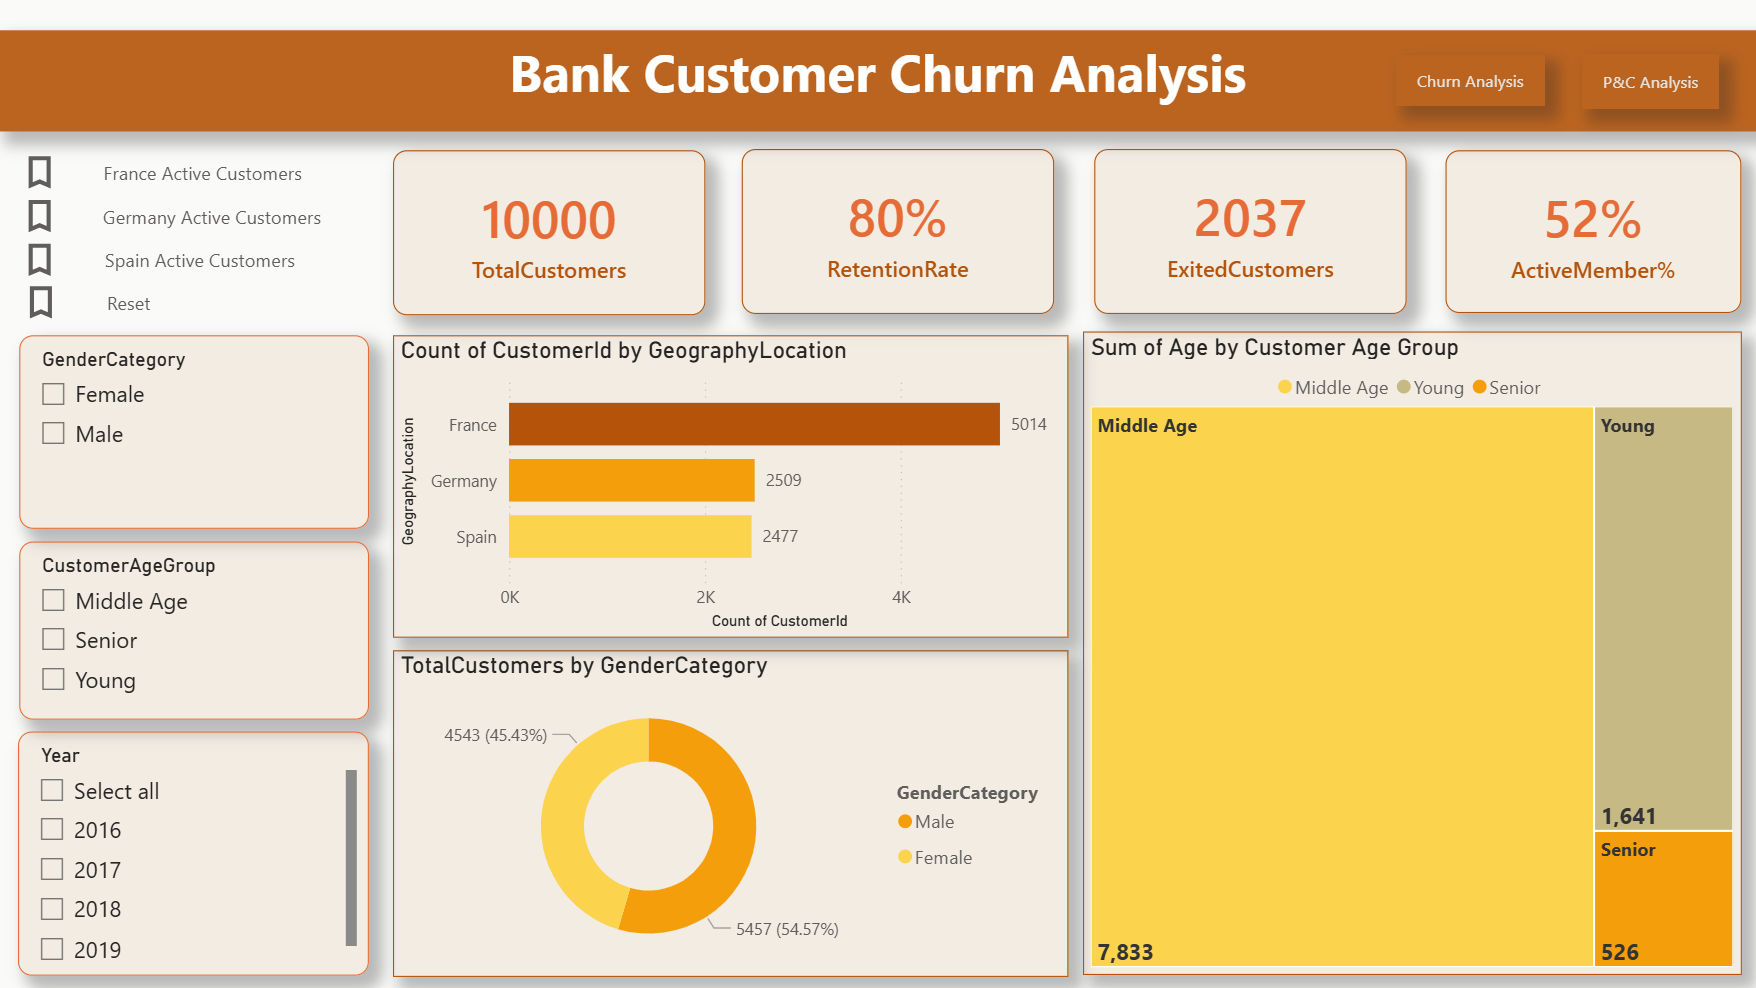

The dashboard page shown, as its layout file describes it:
{"tool":"powerbi","page":{"name":"Customer Overview","canvas":[1280,720],"ordinal":0},"visuals":[{"type":"textbox","box":[0,23.1,1279.7,73.6],"z":0,"group":"g1"},{"type":"card","fields":{"Values":["Bank_Churn.TotalCustomers"]},"box":[287.4,110.1,227.4,119.8],"z":0},{"type":"card","fields":{"Values":["Bank_Churn.RetentionRate"]},"box":[540.5,108.8,227.4,119.8],"z":1000},{"type":"card","fields":{"Values":["Bank_Churn.ActiveMember%"]},"box":[1052.9,110.1,215.2,118.6],"z":2000},{"type":"donutChart","fields":{"Category":["Gender.GenderCategory"],"Y":["Bank_Churn.TotalCustomers"]},"box":[287.4,473.2,491.6,237.2],"z":3000},{"type":"barChart","fields":{"Y":["CountNonNull(Bank_Churn.CustomerId)"],"Category":["Geography.GeographyLocation"]},"box":[287.4,244.6,491.6,220.1],"z":4000},{"type":"treemap","title":"Sum of Age by Customer Age Group","fields":{"Group":["Bank_Churn.CustomerAgeGroup"],"Values":["CountNonNull(Bank_Churn.Age)"]},"box":[788.7,242.1,479.4,468.3],"z":5000},{"type":"slicer","fields":{"Values":["Gender.GenderCategory"]},"box":[15.9,244.6,254.3,140.6],"z":7000},{"type":"slicer","fields":{"Values":["Bank_Churn.CustomerAgeGroup"]},"box":[15.9,395,254.3,129.6],"z":8000},{"type":"slicer","fields":{"Values":["Bank_Churn.Bank DOJ.Variation.Date Hierarchy.Year"]},"box":[14.7,533.2,255.6,177.3],"z":9000},{"type":"actionButton","box":[15,110.1,226.5,31.6],"z":10000},{"type":"actionButton","title":"Churn Analysis","box":[1016.2,41.6,108.8,36.7],"z":11000,"group":"g1"},{"type":"actionButton","box":[14.7,141.7,255.6,31.6],"z":11000},{"type":"actionButton","box":[1151.9,40.4,100.3,40.4],"z":12000,"group":"g1"},{"type":"actionButton","box":[15,173.3,226.5,31.6],"z":12000},{"type":"actionButton","box":[15.1,204.4,226.5,31.6],"z":13000},{"type":"group","id":"g1","title":"Group 1","box":[0,23.1,1279.7,73.6],"z":14000},{"type":"card","fields":{"Values":["Bank_Churn.ExitedCustomers"]},"box":[797.3,108.8,227.4,119.8],"z":15000}]}

Visuals, with their boxes in screenshot pixels (x1, y1, x2, y2), scaled from the page's 1280x720 canvas onto the 1756x988 screenshot:
textbox: 0, 32, 1755, 133
card - Bank_Churn.TotalCustomers: 394, 151, 706, 315
card - Bank_Churn.RetentionRate: 741, 149, 1053, 314
card - Bank_Churn.ActiveMember%: 1444, 151, 1740, 314
donutChart - Gender.GenderCategory x Bank_Churn.TotalCustomers: 394, 649, 1069, 975
barChart - CountNonNull(Bank_Churn.CustomerId) x Geography.GeographyLocation: 394, 336, 1069, 638
"Sum of Age by Customer Age Group" treemap: 1082, 332, 1740, 975
slicer - Gender.GenderCategory: 22, 336, 371, 529
slicer - Bank_Churn.CustomerAgeGroup: 22, 542, 371, 720
slicer - Bank_Churn.Bank DOJ.Variation.Date Hierarchy.Year: 20, 732, 371, 975
actionButton: 21, 151, 331, 194
"Churn Analysis" actionButton: 1394, 57, 1543, 107
actionButton: 20, 194, 371, 238
actionButton: 1580, 55, 1718, 111
actionButton: 21, 238, 331, 281
actionButton: 21, 280, 331, 324
"Group 1" group: 0, 32, 1755, 133
card - Bank_Churn.ExitedCustomers: 1094, 149, 1406, 314
